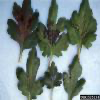Tomato leaf bacterial spot: (65, 1, 97, 57), (15, 44, 47, 98), (62, 50, 89, 97), (44, 62, 63, 96)
